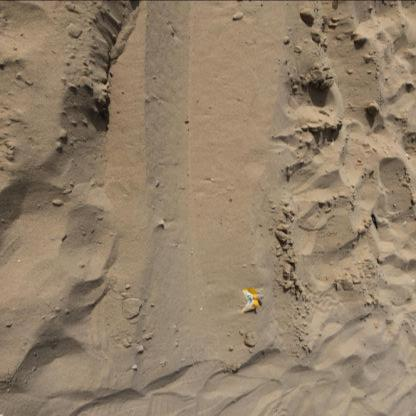Other litter: (241, 288, 265, 313)
Straw: (372, 213, 378, 228)
